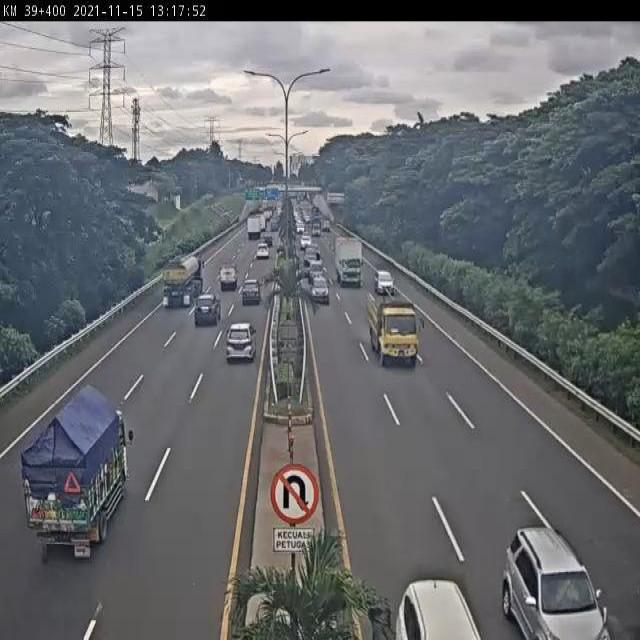car: (225, 322, 257, 366), (193, 292, 222, 328), (308, 272, 332, 307), (240, 276, 263, 307), (374, 269, 396, 299)
truck-m-: (21, 382, 131, 554), (366, 293, 420, 367)
truck-s-: (218, 264, 239, 293)
truck-xl-: (159, 254, 205, 310), (332, 233, 362, 287)
